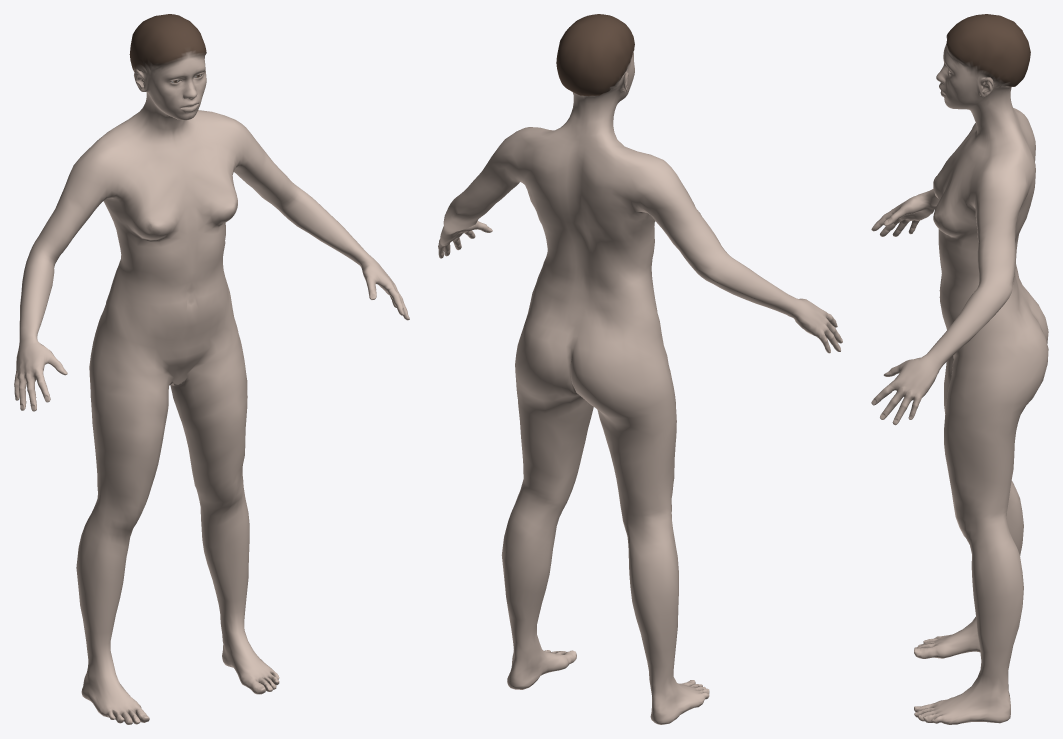
3 renders of one model, left to right at view 1: azimuth 30°, elevation 25°; view 2: azimuth 150°, elevation 25°; view 3: azimuth 270°, elevation 25°, orthographic. The views are drawn at different scales.
Parts seen in each view (by area): view 1: Body; view 2: Body; view 3: Body.
Boxes of the visible parts, x1,y1,x2,y2 form: Body: (14, 14, 409, 724); Body: (438, 14, 842, 724); Body: (871, 14, 1048, 724).
Size of the model in its own units: 0.9707 by 1.6 by 0.3834.
